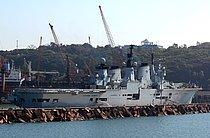MIL_Ship: (7, 43, 201, 105)
